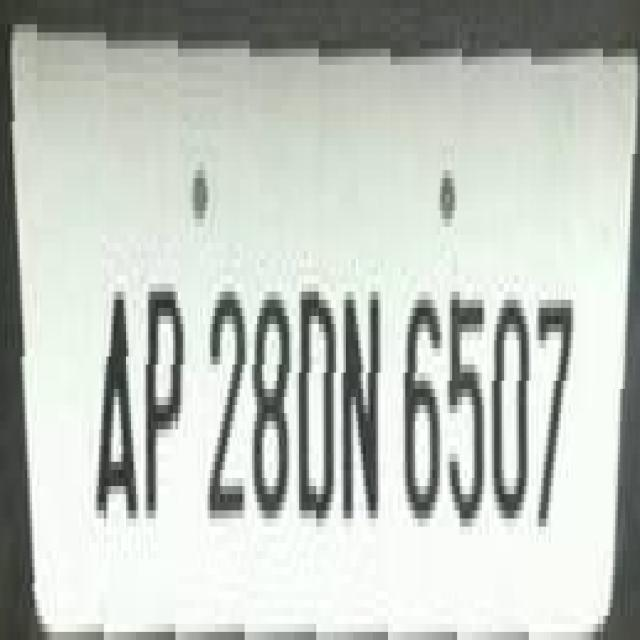license_plate: (27, 48, 638, 608)
